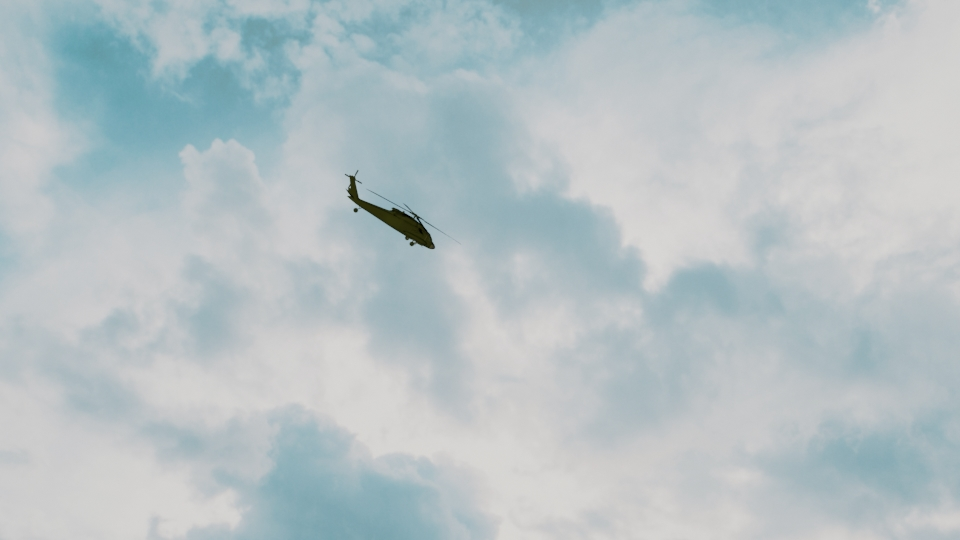heli: (344, 167, 435, 250)
